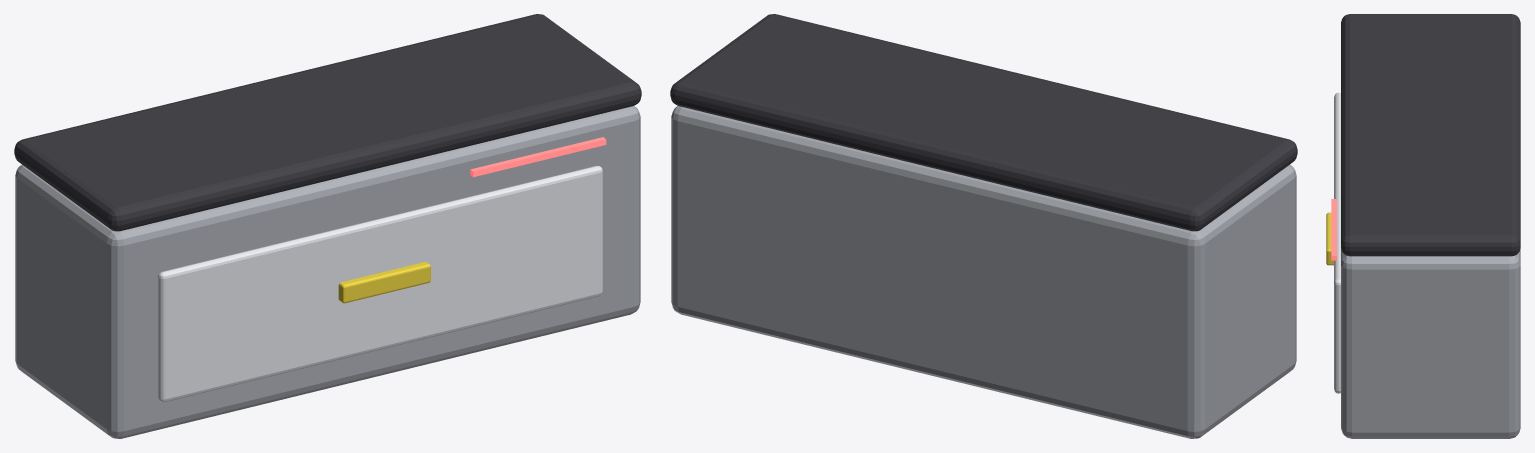
The model's file is bench_airlock.glb.
3 renders of one model, left to right at view 1: azimuth 30°, elevation 25°; view 2: azimuth 150°, elevation 25°; view 3: azimuth 270°, elevation 25°, orthographic. The views are drawn at different scales.
Visible parts, largest first — view 1: GD_bench_airlock__m0, GD_bench_airlock__m3, GD_bench_airlock__m1, GD_bench_airlock__m2, GD_bench_airlock__m4; view 2: GD_bench_airlock__m0, GD_bench_airlock__m3; view 3: GD_bench_airlock__m3, GD_bench_airlock__m0, GD_bench_airlock__m1, GD_bench_airlock__m4, GD_bench_airlock__m2.
Part boxes in pixels (x1,y1,x2,y2): GD_bench_airlock__m0: [15, 106, 640, 438]; GD_bench_airlock__m3: [14, 14, 641, 231]; GD_bench_airlock__m1: [158, 166, 602, 402]; GD_bench_airlock__m2: [338, 261, 430, 303]; GD_bench_airlock__m4: [470, 137, 606, 177]; GD_bench_airlock__m0: [671, 106, 1296, 438]; GD_bench_airlock__m3: [670, 14, 1297, 231]; GD_bench_airlock__m3: [1341, 14, 1520, 256]; GD_bench_airlock__m0: [1341, 248, 1520, 438]; GD_bench_airlock__m1: [1334, 92, 1340, 393]; GD_bench_airlock__m4: [1331, 199, 1336, 260]; GD_bench_airlock__m2: [1326, 212, 1333, 265].
Bounding box in the file's own units: 1.2 × 0.5 × 0.4325.
